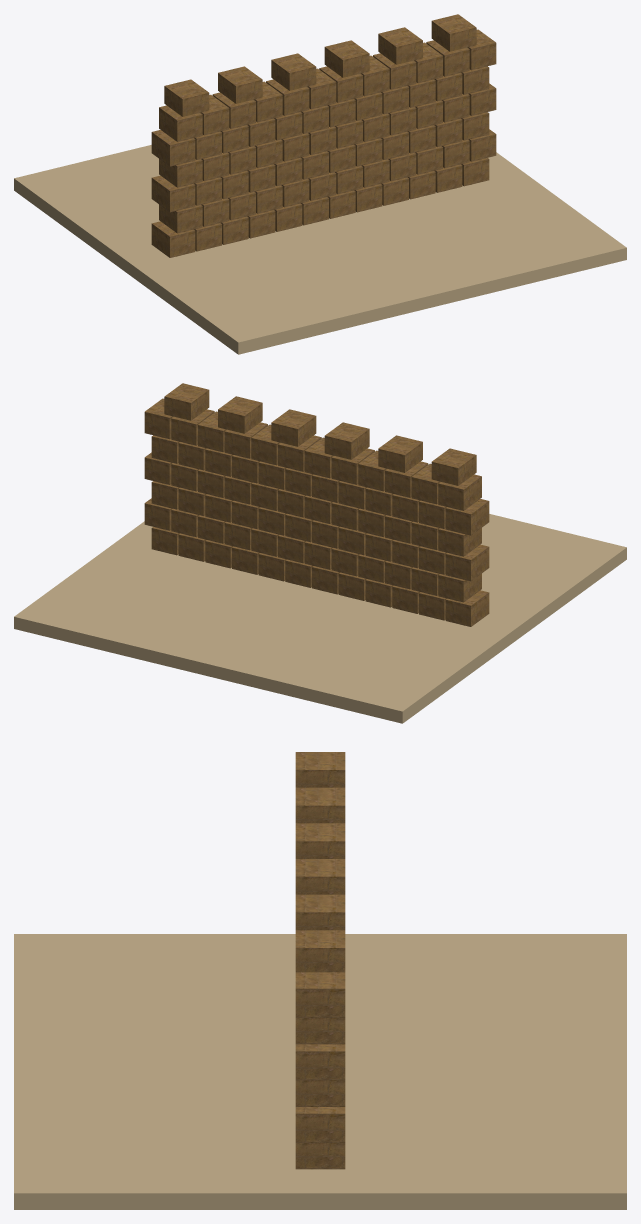
File: muralha.glb
3 renders of one model, top to bottom at view 1: azimuth 30°, elevation 25°; view 2: azimuth 150°, elevation 25°; view 3: azimuth 270°, elevation 25°, orthographic. The views are drawn at different scales.
Parts seen in each view (by area): view 1: Base ilustrativa, Parapeito ameado, Parapeito ameado.003, Parapeito ameado.005, Parapeito ameado.002, Parapeito ameado.004, Parapeito ameado.001, Bloco de alvenaria, Bloco de alvenaria.048, Bloco de alvenaria.024, Bloco de alvenaria.060, Bloco de alvenaria.012 (+67 smaller); view 2: Base ilustrativa, Parapeito ameado, Parapeito ameado.003, Parapeito ameado.005, Parapeito ameado.002, Parapeito ameado.004, Parapeito ameado.001, Bloco de alvenaria, Bloco de alvenaria.048, Bloco de alvenaria.024, Bloco de alvenaria.060, Bloco de alvenaria.012 (+67 smaller); view 3: Base ilustrativa, Bloco de alvenaria.071, Parapeito ameado.005, Bloco de alvenaria.047, Parapeito ameado.001, Parapeito ameado.004, Bloco de alvenaria.023, Parapeito ameado, Parapeito ameado.002, Parapeito ameado.003, Bloco de alvenaria.035, Bloco de alvenaria.011 (+1 smaller).
Boxes of the visible parts, box(x1,y1,x2,y2) form: Base ilustrativa: box(14, 145, 626, 354); Parapeito ameado: box(164, 79, 209, 116); Parapeito ameado.003: box(324, 40, 369, 77); Parapeito ameado.005: box(431, 14, 476, 51); Parapeito ameado.002: box(271, 53, 316, 90); Parapeito ameado.004: box(378, 27, 422, 64); Parapeito ameado.001: box(218, 66, 262, 103); Bloco de alvenaria: box(151, 221, 195, 257); Bloco de alvenaria.048: box(151, 130, 195, 166); Bloco de alvenaria.024: box(151, 175, 195, 212); Bloco de alvenaria.060: box(159, 105, 202, 141); Bloco de alvenaria.012: box(159, 204, 202, 233); Base ilustrativa: box(14, 514, 626, 723); Parapeito ameado: box(431, 448, 476, 485); Parapeito ameado.003: box(271, 409, 316, 446); Parapeito ameado.005: box(164, 383, 209, 420); Parapeito ameado.002: box(324, 422, 369, 459); Parapeito ameado.004: box(218, 396, 262, 433); Parapeito ameado.001: box(378, 435, 422, 472); Bloco de alvenaria: box(445, 590, 489, 626); Bloco de alvenaria.048: box(445, 499, 489, 535); Bloco de alvenaria.024: box(445, 544, 489, 581); Bloco de alvenaria.060: box(438, 474, 481, 510); Bloco de alvenaria.012: box(438, 573, 481, 602); Base ilustrativa: box(14, 934, 626, 1209); Bloco de alvenaria.071: box(295, 972, 345, 1017); Parapeito ameado.005: box(295, 930, 345, 972); Bloco de alvenaria.047: box(295, 1044, 345, 1080); Parapeito ameado.001: box(295, 787, 345, 823); Parapeito ameado.004: box(295, 894, 345, 930); Bloco de alvenaria.023: box(295, 1107, 345, 1142); Parapeito ameado: box(295, 752, 345, 787); Parapeito ameado.002: box(295, 823, 345, 858); Parapeito ameado.003: box(295, 859, 345, 894); Bloco de alvenaria.035: box(295, 1080, 345, 1106); Bloco de alvenaria.011: box(295, 1143, 345, 1169).
Size of the model in its own units: 8 by 3.32 by 8.
Materials: 2 (1 with a texture image).
